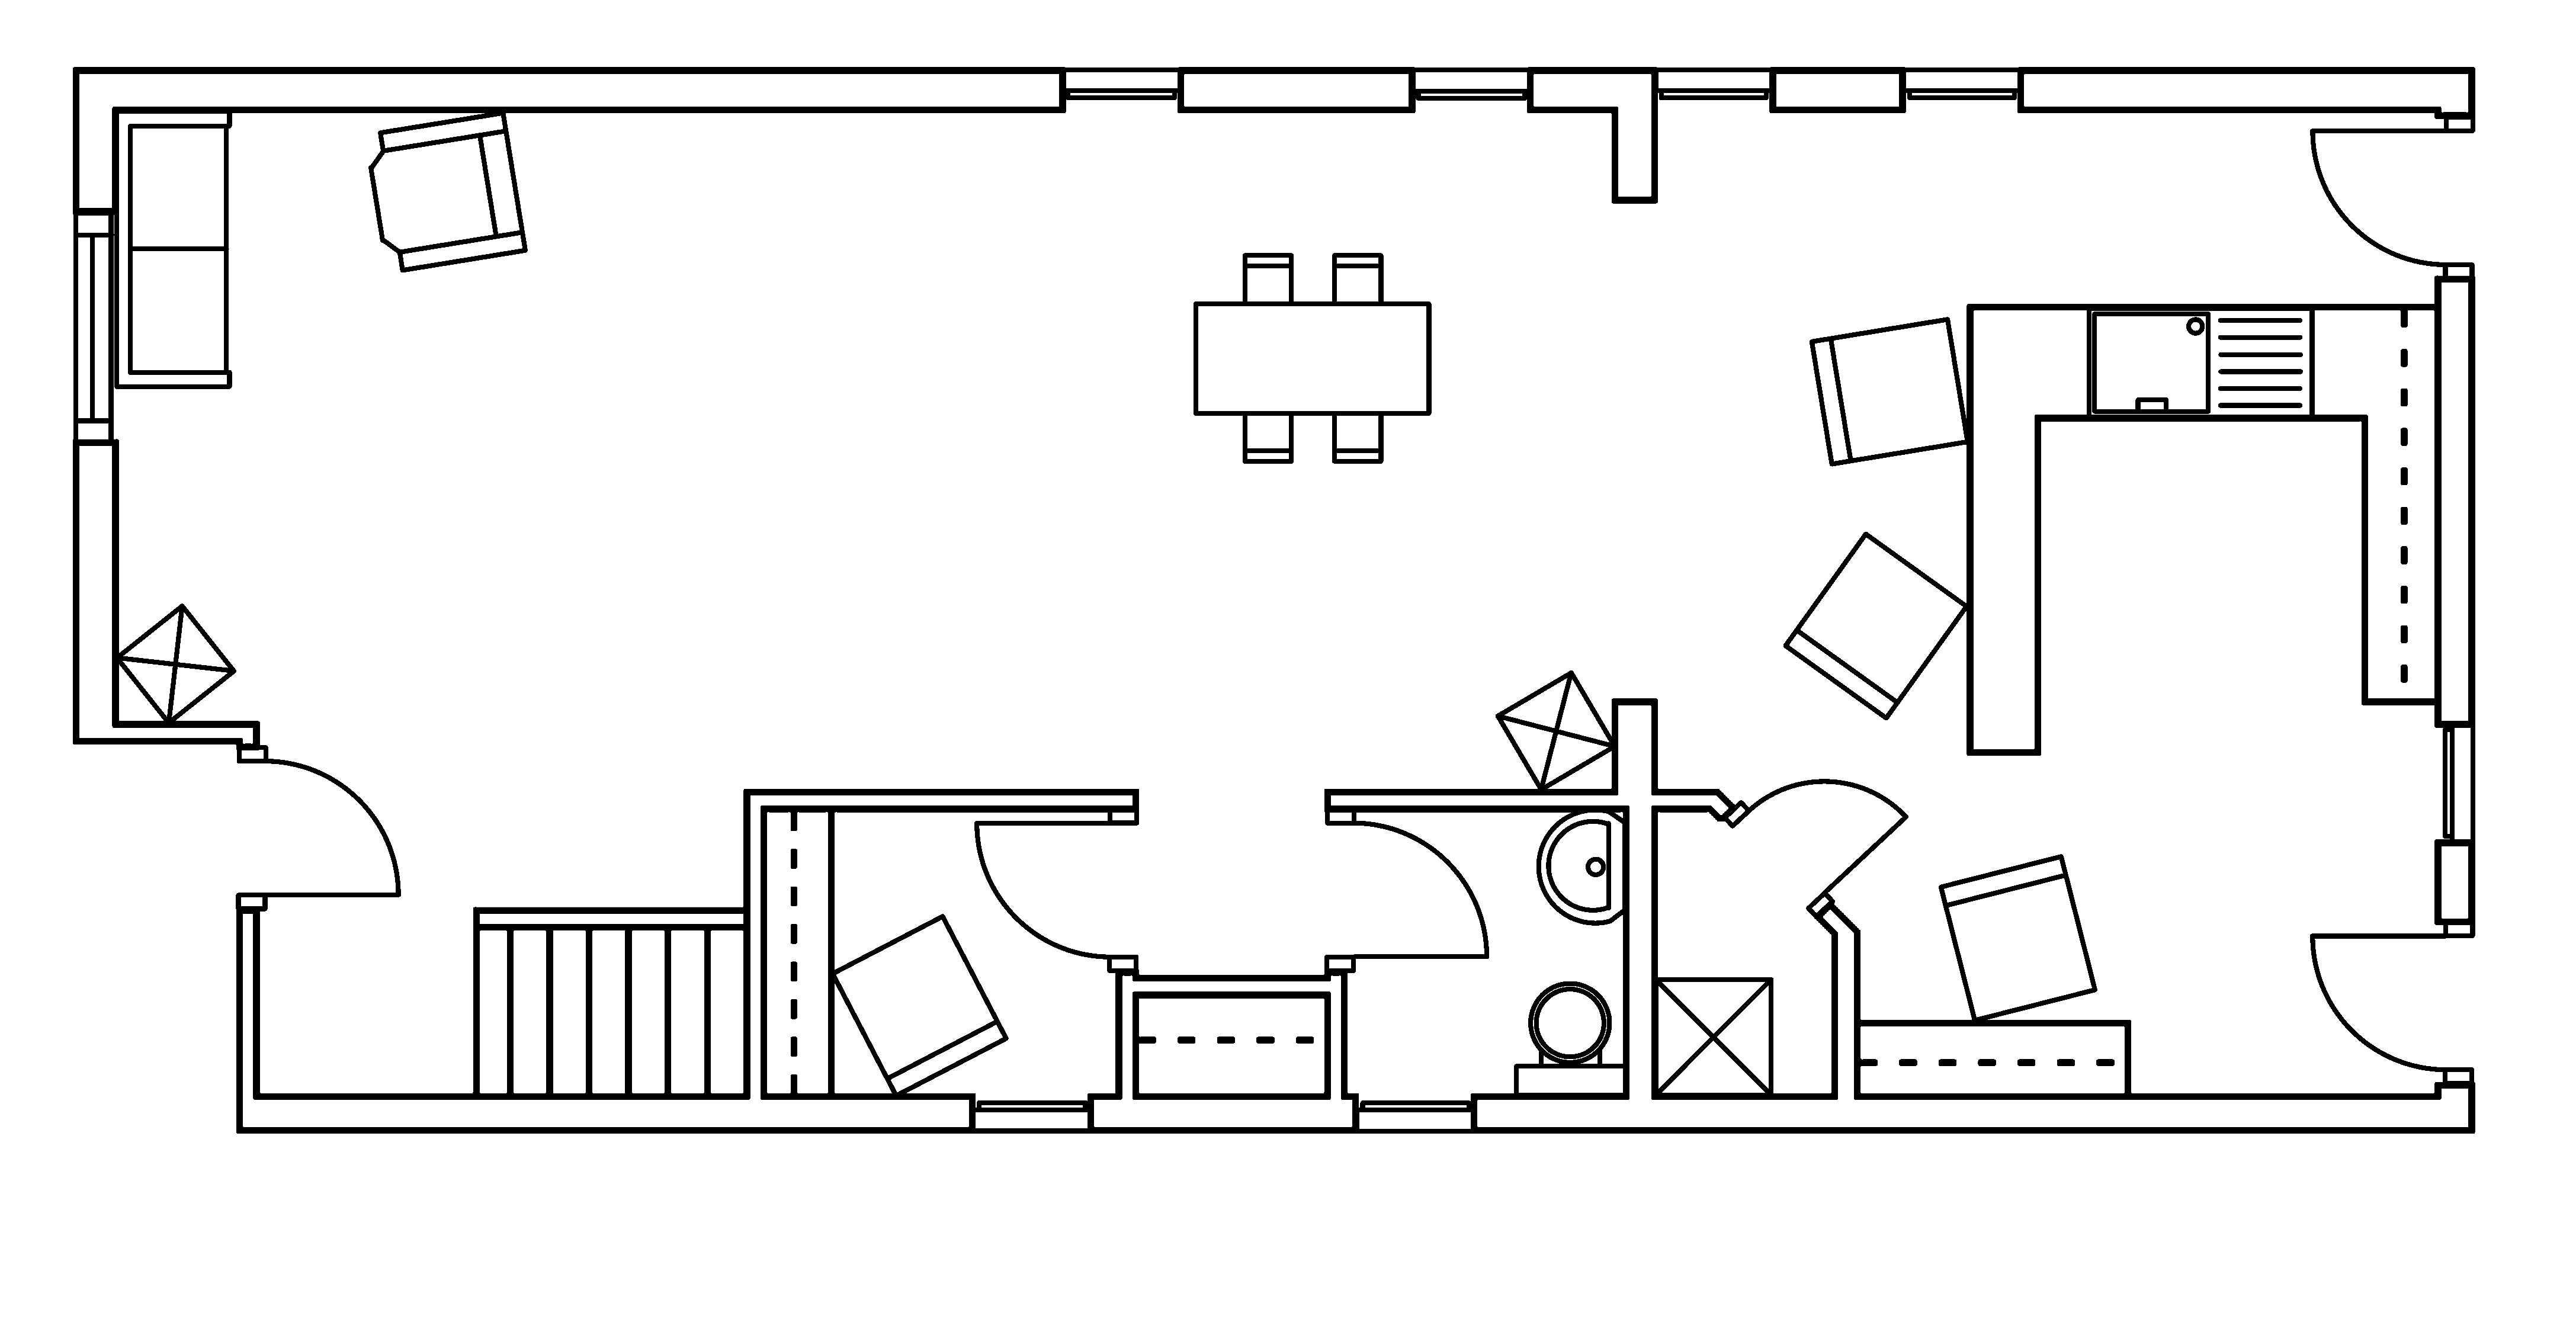armchair: (367, 109, 528, 273)
coffee_table: (113, 602, 237, 725), (1493, 670, 1618, 792), (1651, 976, 1774, 1097)
dining_table: (1192, 252, 1431, 464)
large_sink: (1513, 981, 1628, 1097)
large_sofa: (113, 108, 232, 389)
sink: (2085, 305, 2314, 421)
small_sink: (1535, 808, 1628, 925)
small_sofa: (1782, 530, 1969, 720), (829, 912, 1009, 1099), (1937, 853, 2097, 1023), (1808, 316, 1971, 466)
